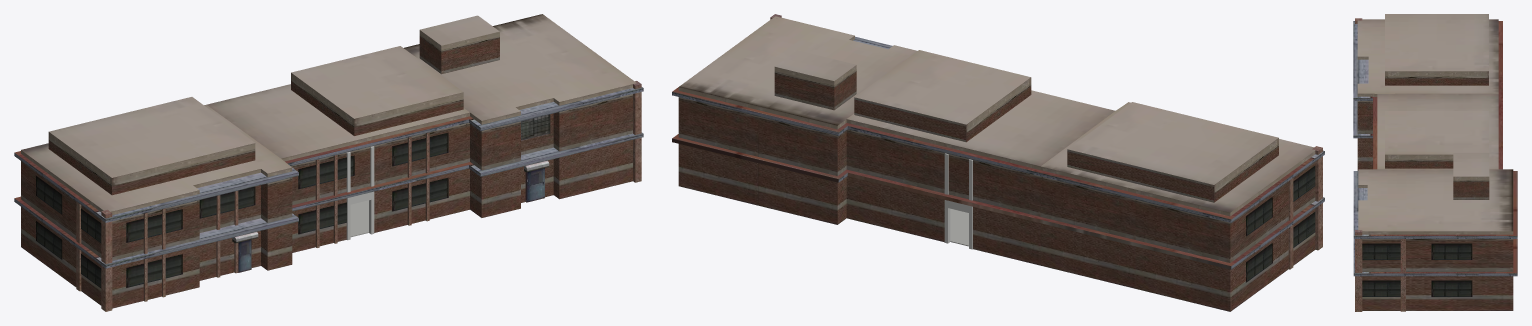
Rendered from ind-warehouse-4.zfix-v1.lod0.glb.
The picture shows the model from 3 angles, left to right: view 1: azimuth 30°, elevation 25°; view 2: azimuth 150°, elevation 25°; view 3: azimuth 270°, elevation 25°; orthographic projection. The views are drawn at different scales.
Parts seen in each view (by area): view 1: Industrial_Warehouse_4_Industrial_Facade_Flr_1_0, Walkable floors and stairs (×2); view 2: Industrial_Warehouse_4_Industrial_Facade_Flr_1_0, Walkable floors and stairs (×2); view 3: Industrial_Warehouse_4_Industrial_Facade_Flr_1_0.
Part boxes in pixels (x1,y1,x2,y2): Industrial_Warehouse_4_Industrial_Facade_Flr_1_0: (14,14,643,311); Walkable floors and stairs (×2): (346,146,374,240); Industrial_Warehouse_4_Industrial_Facade_Flr_1_0: (672,14,1324,311); Walkable floors and stairs (×2): (944,153,972,249); Industrial_Warehouse_4_Industrial_Facade_Flr_1_0: (1353,14,1517,311).
Bounding box in the file's own units: 42.08 × 9.38 × 13.59.
Materials: 3 (1 with a texture image).
